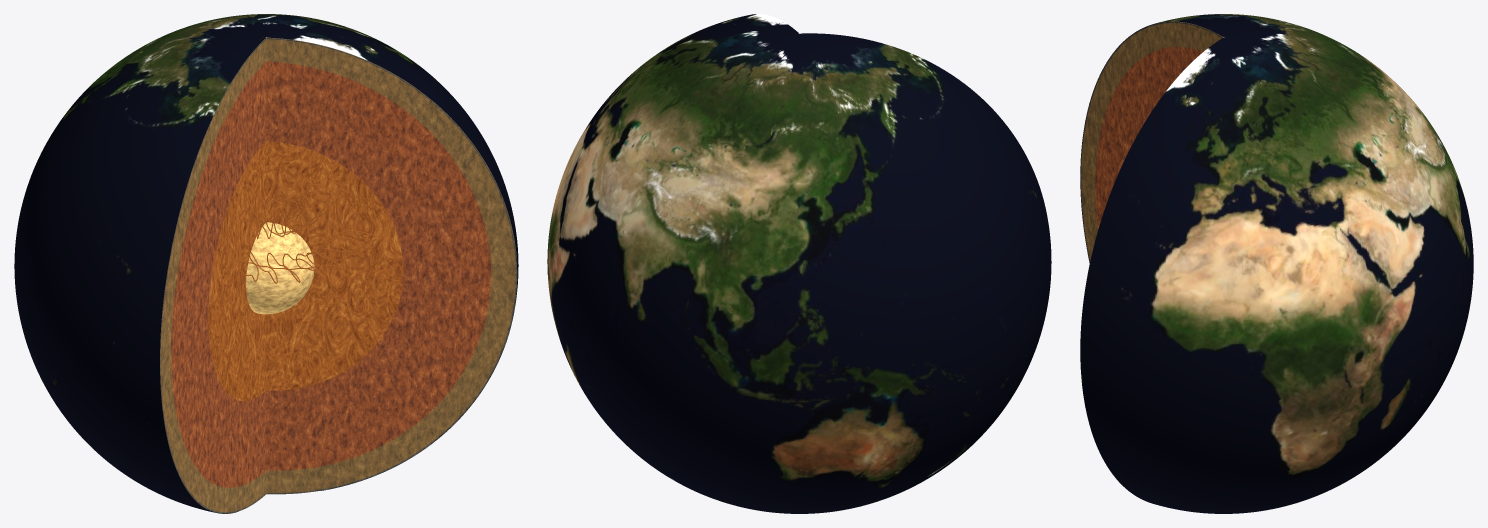
Rendered from earth-interior.glb.
3 renders of one model, left to right at view 1: azimuth 30°, elevation 25°; view 2: azimuth 150°, elevation 25°; view 3: azimuth 270°, elevation 25°, orthographic.
Parts seen in each view (by area): view 1: observed_surface, lower_mantle_cut_right, outer_core_cut_right, lower_mantle_cut_left, upper_mantle_cut_right, outer_core_cut_left, upper_mantle_cut_left, solid_inner_core, outer_core_ribbons, crust_cut_right, crust_cut_left; view 2: observed_surface; view 3: observed_surface, lower_mantle_cut_left, upper_mantle_cut_left, crust_cut_left.
Boxes of the visible parts, <box> form: observed_surface: <box>14,14,518,513</box>; lower_mantle_cut_right: <box>266,61,491,470</box>; outer_core_cut_right: <box>266,141,403,390</box>; lower_mantle_cut_left: <box>171,62,266,487</box>; upper_mantle_cut_right: <box>266,39,515,492</box>; outer_core_cut_left: <box>208,142,266,401</box>; upper_mantle_cut_left: <box>160,39,266,512</box>; solid_inner_core: <box>246,222,314,314</box>; outer_core_ribbons: <box>228,180,377,283</box>; crust_cut_right: <box>266,38,517,494</box>; crust_cut_left: <box>160,38,266,513</box>; observed_surface: <box>547,14,1051,513</box>; observed_surface: <box>1080,14,1473,513</box>; lower_mantle_cut_left: <box>1095,47,1203,229</box>; upper_mantle_cut_left: <box>1081,23,1221,261</box>; crust_cut_left: <box>1080,21,1222,263</box>.
Bounding box in the file's own units: 20.02 × 20.02 × 15.75.
Materials: 6 (6 with a texture image).
